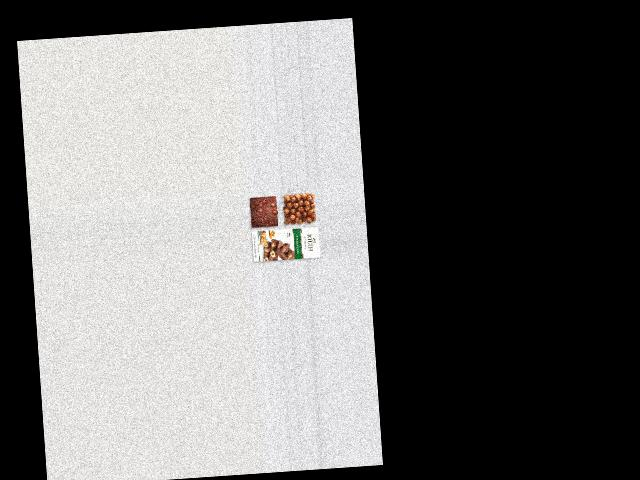chocolate: (247, 192, 278, 229)
